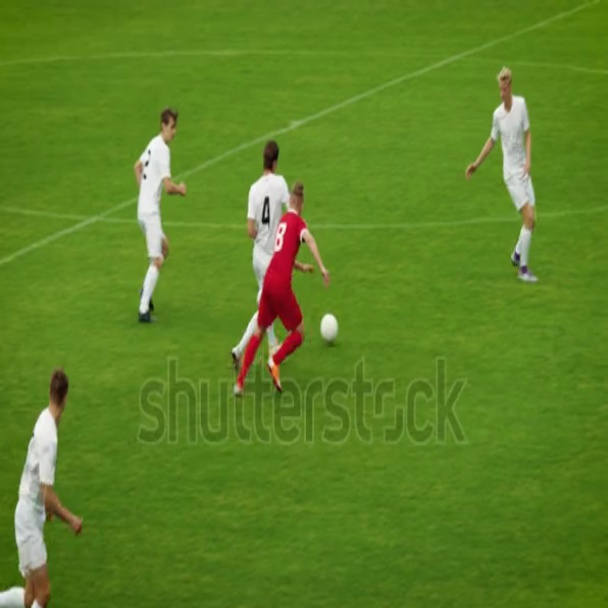ball: (322, 310, 339, 345)
